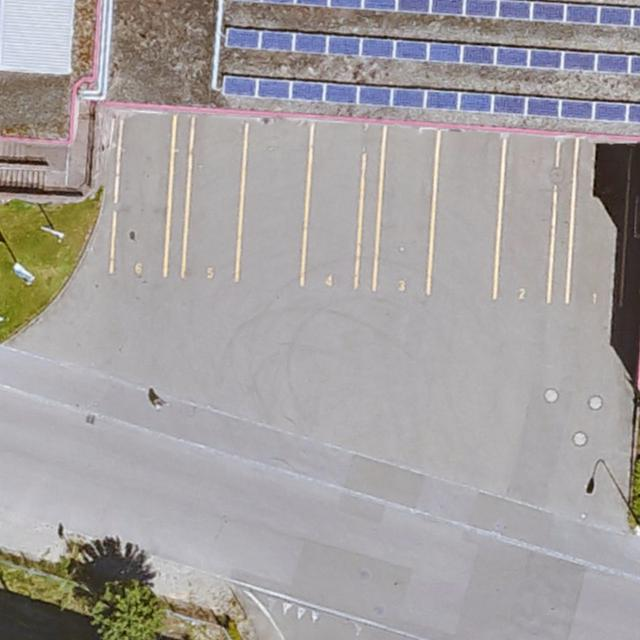tree: (91, 580, 163, 640)
